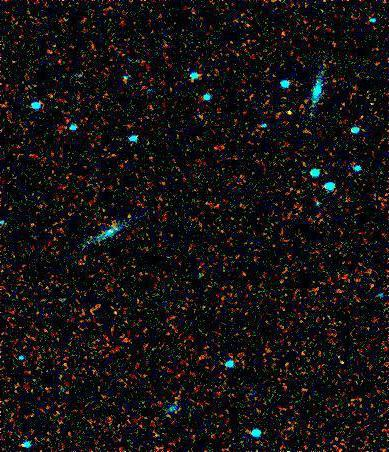star: (275, 97, 305, 127)
